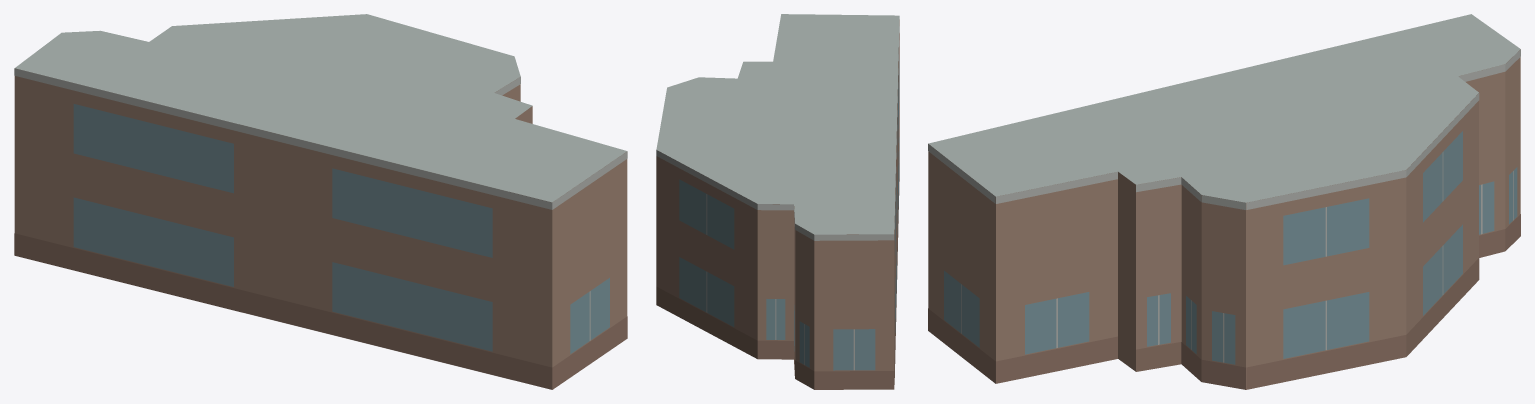
Rendered from survey-upis-32653162.glb.
3 renders of one model, left to right at view 1: azimuth 30°, elevation 25°; view 2: azimuth 150°, elevation 25°; view 3: azimuth 270°, elevation 25°, orthographic. The views are drawn at different scales.
Visible parts, largest first — view 1: survey-upis-32653162.tmp; view 2: survey-upis-32653162.tmp; view 3: survey-upis-32653162.tmp.
Boxes of the visible parts, x1,y1,x2,y2 form: survey-upis-32653162.tmp: (14, 14, 627, 389); survey-upis-32653162.tmp: (656, 14, 899, 389); survey-upis-32653162.tmp: (928, 14, 1520, 389).
Size of the model in its own units: 13.2 by 6.1 by 17.52.
